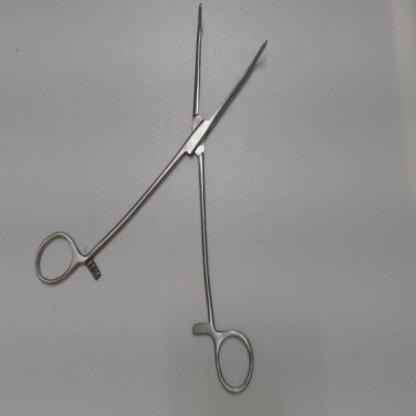Lahey Forceps: (32, 0, 274, 402)
